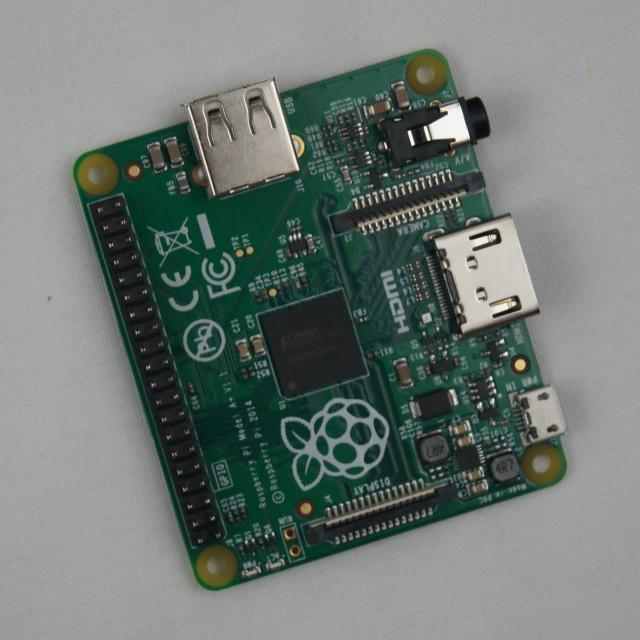Raspberry-Pi-1-A-: (76, 51, 568, 590)
